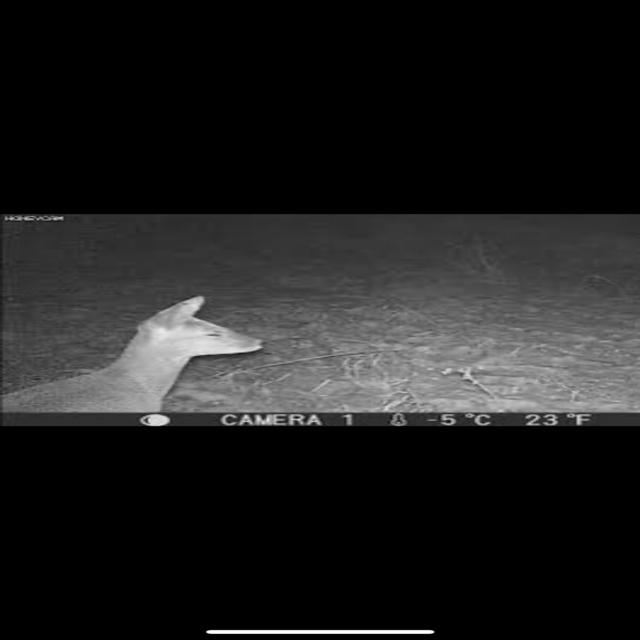elk: (0, 277, 276, 429)
